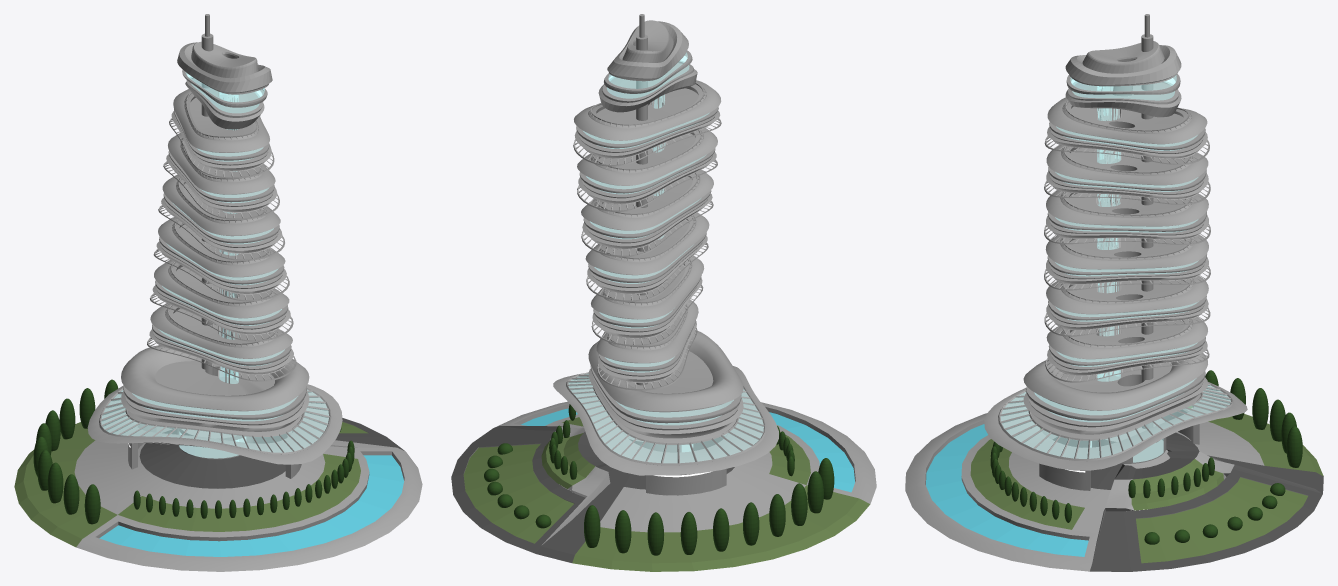
Rendered from building2.fbx.
3 renders of one model, left to right at view 1: azimuth 30°, elevation 25°; view 2: azimuth 150°, elevation 25°; view 3: azimuth 270°, elevation 25°, orthographic. The views are drawn at different scales.
Visible parts, largest first — view 1: Torus_026_Torus_001, Torus_027_Torus_001, Torus_028_Torus_001, Sphere_017_Sphere_001.001, Sphere_015_Sphere_001.001, Circle_001, Cylinder_001.001; view 2: Torus_026_Torus_001, Torus_027_Torus_001, Sphere_017_Sphere_001.001, Torus_028_Torus_001, Sphere_018_Sphere_001.001, Cylinder_001.001, Sphere_016_Sphere_001.001, Sphere_015_Sphere_001.001; view 3: Torus_026_Torus_001, Torus_027_Torus_001, Torus_028_Torus_001, Sphere_017_Sphere_001.001, Circle_001, Sphere_015_Sphere_001.001, Cylinder_001.001, Sphere_018_Sphere_001.001, Sphere_016_Sphere_001.001.
Boxes of the visible parts, x1,y1,x2,y2 form: Torus_026_Torus_001: [14, 345, 422, 571]; Torus_027_Torus_001: [147, 89, 296, 381]; Torus_028_Torus_001: [177, 41, 272, 129]; Sphere_017_Sphere_001.001: [33, 379, 118, 524]; Sphere_015_Sphere_001.001: [133, 440, 354, 518]; Circle_001: [218, 92, 239, 441]; Cylinder_001.001: [201, 14, 213, 375]; Torus_026_Torus_001: [451, 331, 876, 571]; Torus_027_Torus_001: [573, 80, 721, 390]; Sphere_017_Sphere_001.001: [584, 458, 834, 555]; Torus_028_Torus_001: [598, 20, 697, 112]; Sphere_018_Sphere_001.001: [484, 443, 551, 528]; Cylinder_001.001: [636, 14, 647, 385]; Sphere_016_Sphere_001.001: [549, 420, 577, 479]; Sphere_015_Sphere_001.001: [568, 404, 794, 476]; Torus_026_Torus_001: [905, 353, 1323, 571]; Torus_027_Torus_001: [1044, 97, 1210, 382]; Torus_028_Torus_001: [1065, 41, 1181, 117]; Sphere_017_Sphere_001.001: [1205, 370, 1302, 467]; Circle_001: [1096, 86, 1121, 381]; Sphere_015_Sphere_001.001: [990, 441, 1071, 522]; Cylinder_001.001: [1141, 14, 1153, 428]; Sphere_018_Sphere_001.001: [1144, 483, 1285, 544]; Sphere_016_Sphere_001.001: [1128, 457, 1214, 498].
Bounding box in the file's own units: 3817 × 3817 × 4737.
